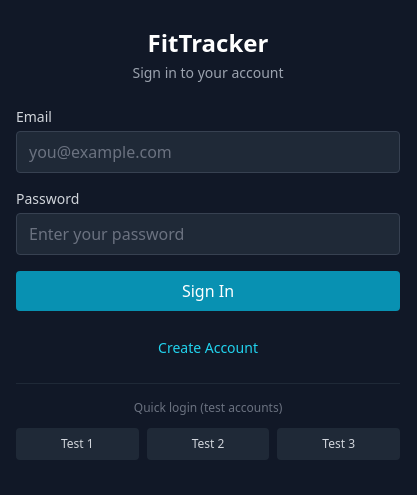
Test case: LoginPage › shows error on failed login
Type "bad@test.dev" into the field labelled "Email". click: x=208, y=152
box: [16, 130, 400, 172]
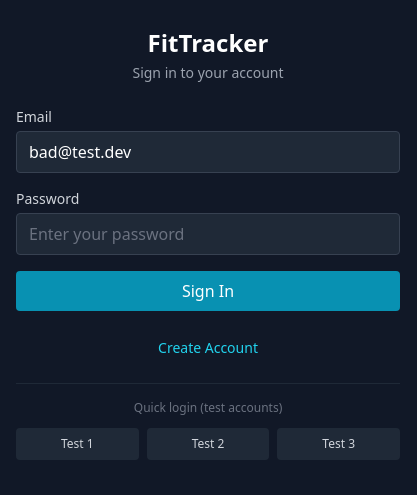
Type "wrongpass" into the password field labelled "Password". click: x=208, y=234
box: [16, 212, 400, 254]
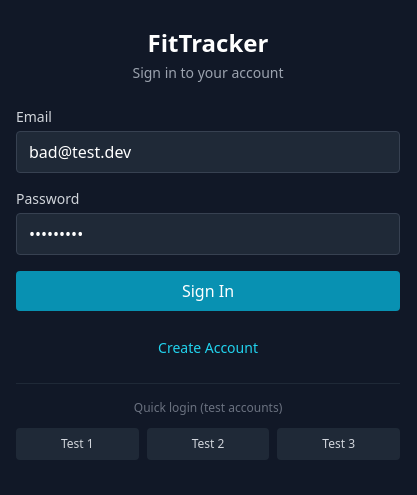
Click the button "Sign In". click: x=208, y=290
box: [16, 270, 400, 310]
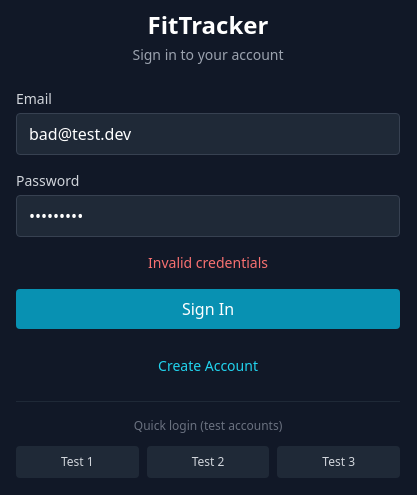
Result: the text "Invalid credentials" is shown at [148, 252, 268, 272]
